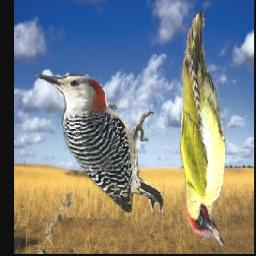Woodpecker: (34, 72, 163, 212), (179, 12, 233, 247)
